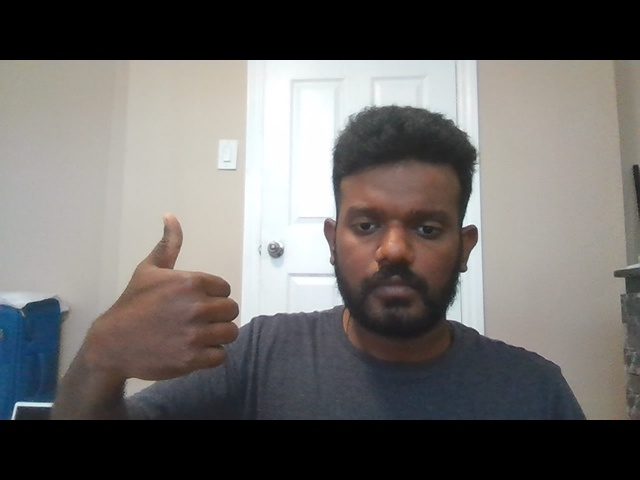yes: (86, 213, 244, 384)
